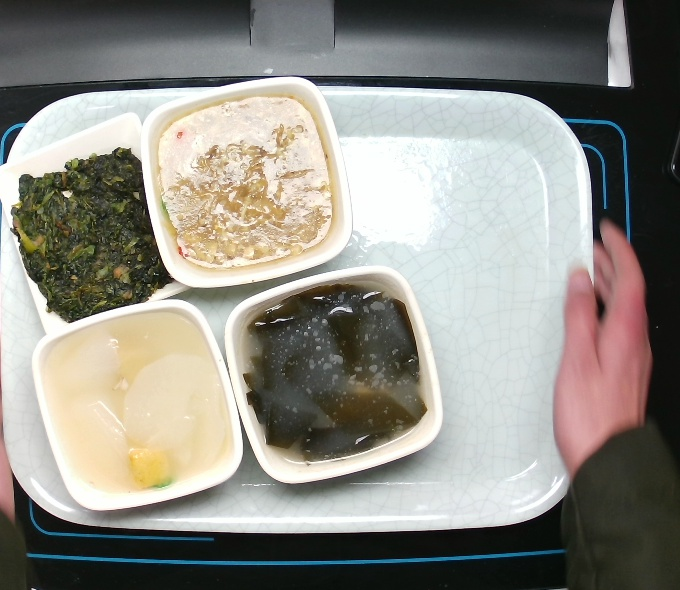wcq-HaiDaiPaiGuTang: (239, 282, 429, 463)
wcq-LuoBoYouPaoTang: (41, 309, 232, 496)
wcq-QinCaiBing: (7, 146, 177, 324)
wcq-SuanLaGeng: (156, 92, 335, 269)
